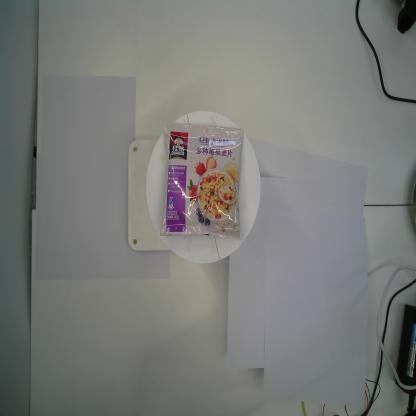Instant Drink: (159, 122, 244, 240)
